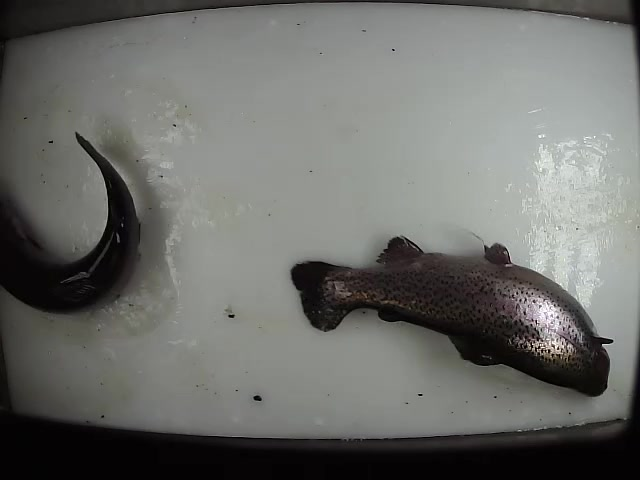fish: (287, 233, 615, 400), (1, 128, 141, 317)
